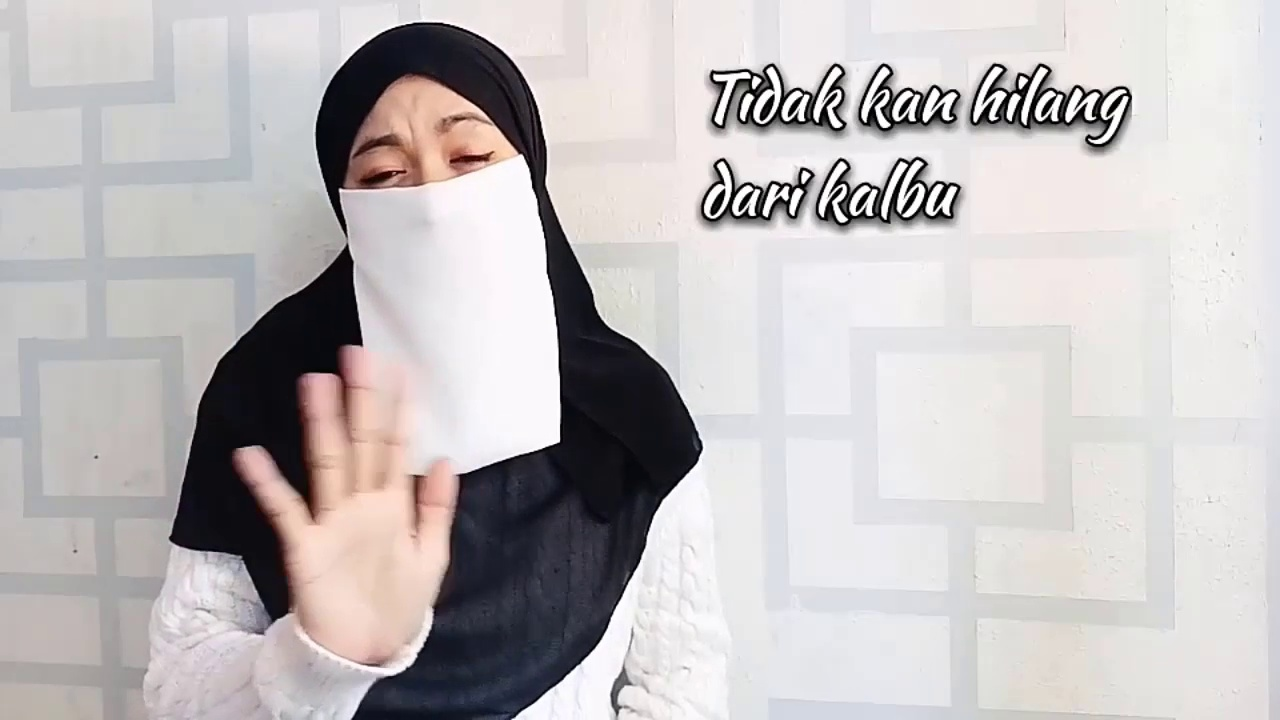TIDAK: (223, 19, 543, 704)
